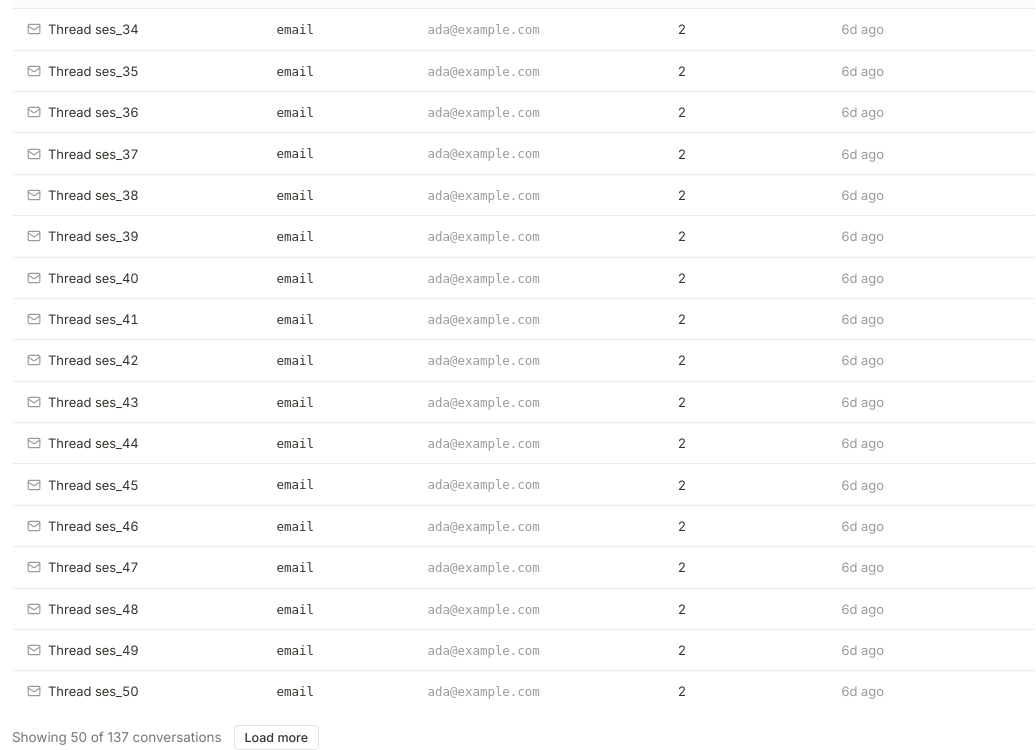
Test: ConversationsView › says how much of the list is on screen, and pages past the 50-row cut
This screenshot has width=1036, height=750.
(page scrolled)
Expected: the text "Showing 50 of 137 conversations" is shown, top-left (12, 727), bottom-right (222, 748)
Expected: the text "Thread ses_97" is not shown
Click the button "Load more" at (276, 737), box top-left (234, 725), bottom-right (319, 749)
(page scrolled)
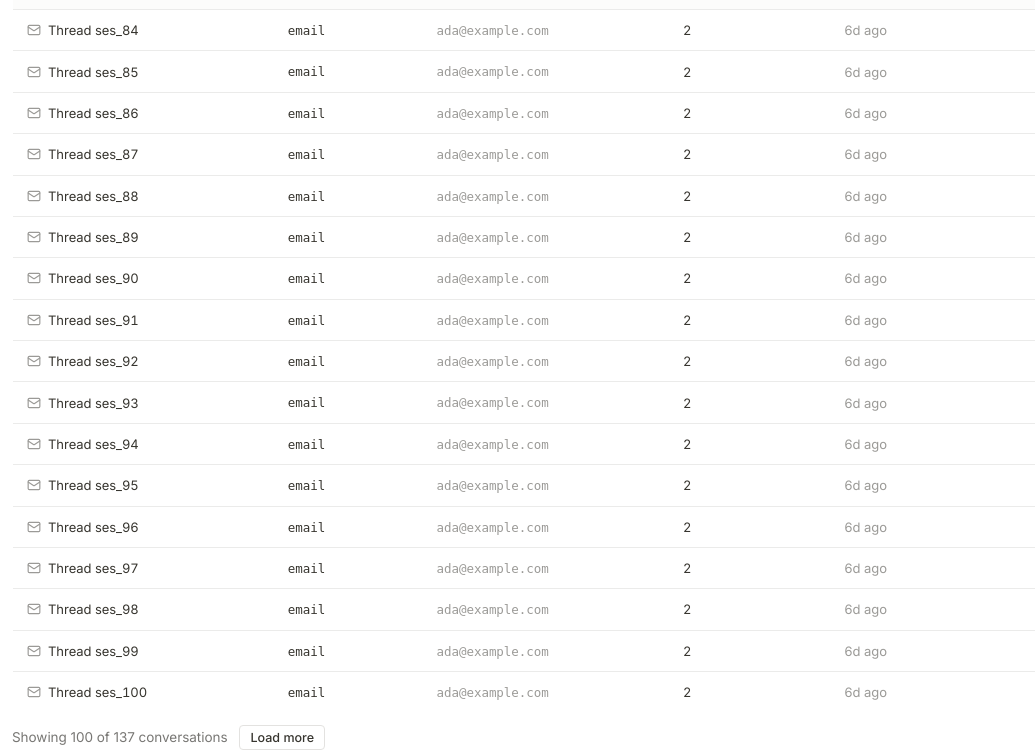
Now the text "Showing 100 of 137 conversations" is shown, box top-left (12, 728), bottom-right (228, 748)
Now the text "Thread ses_97" is shown, box top-left (12, 548), bottom-right (274, 589)
Click the button "Load more" at (282, 738), box top-left (240, 726), bottom-right (325, 749)
(page scrolled)
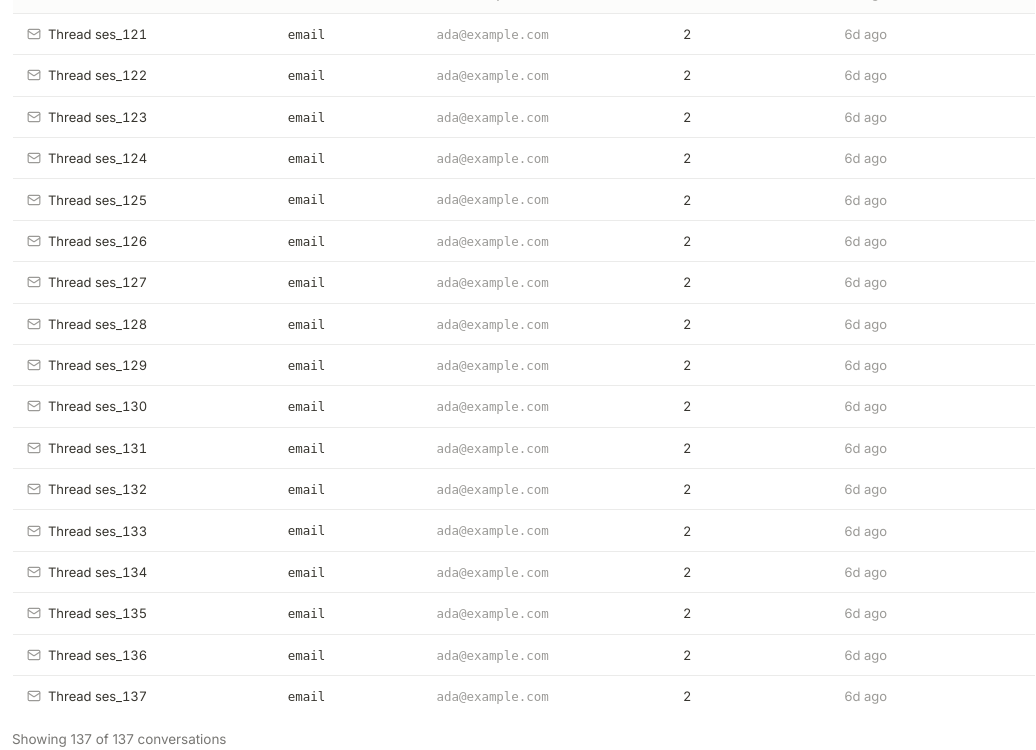
Now the text "Showing 137 of 137 conversations" is shown, box top-left (12, 729), bottom-right (226, 749)
Now the button "Load more" is gone
